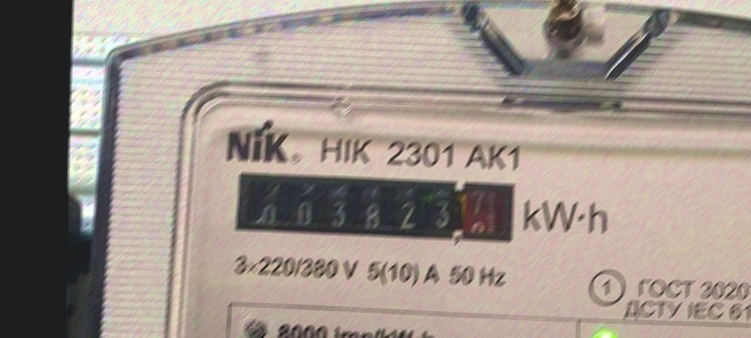0: (294, 196, 314, 223), (260, 199, 278, 222)
2: (399, 197, 418, 229)
3: (434, 197, 452, 227), (330, 196, 348, 225)
7: (471, 188, 488, 216)
8: (364, 199, 381, 227)
9: (262, 178, 281, 197)
screen: (229, 166, 519, 245)
